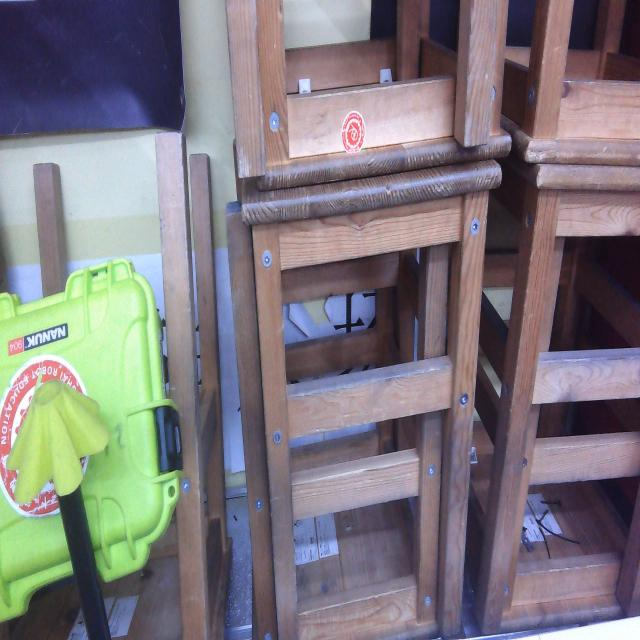Yellow-Stake-Head: (5, 378, 110, 504)
